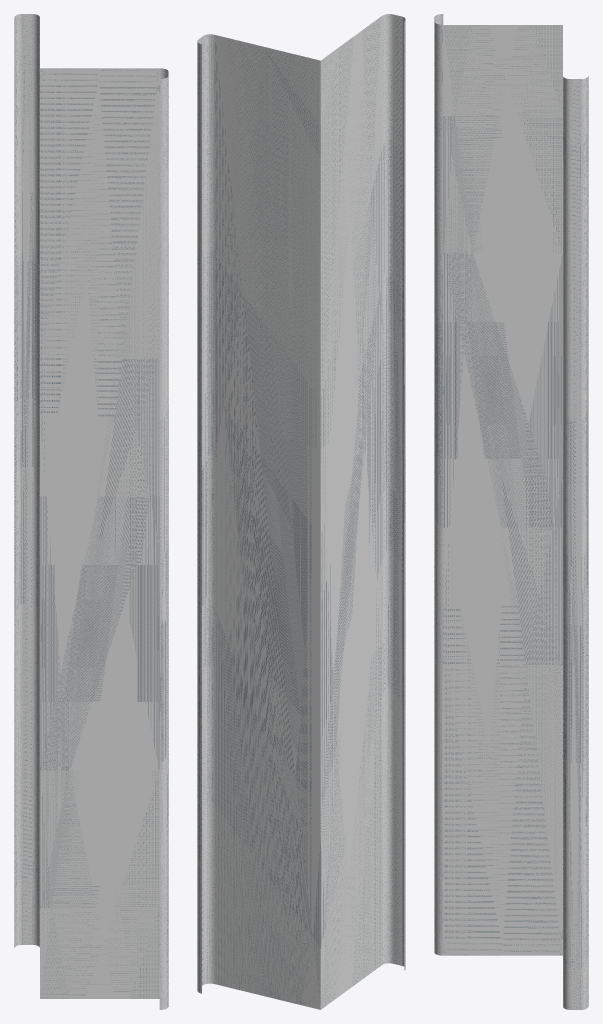
The model's file is PW_CornerFixElem_os_T2_060x060x010x400.dae.
The picture shows the model from 3 angles, left to right: view 1: azimuth 90°, elevation 25°; view 2: azimuth 150°, elevation 25°; view 3: azimuth 270°, elevation 25°; orthographic projection.
Parts seen in each view (by area): view 1: group_0; view 2: group_0; view 3: group_0.
Boxes of the visible parts, x1=… form: group_0: x1=14, y1=14, x2=168, y2=1009; group_0: x1=197, y1=14, x2=405, y2=1009; group_0: x1=434, y1=14, x2=588, y2=1009.
Size of the model in its own units: 23.62 by 23.62 by 157.
